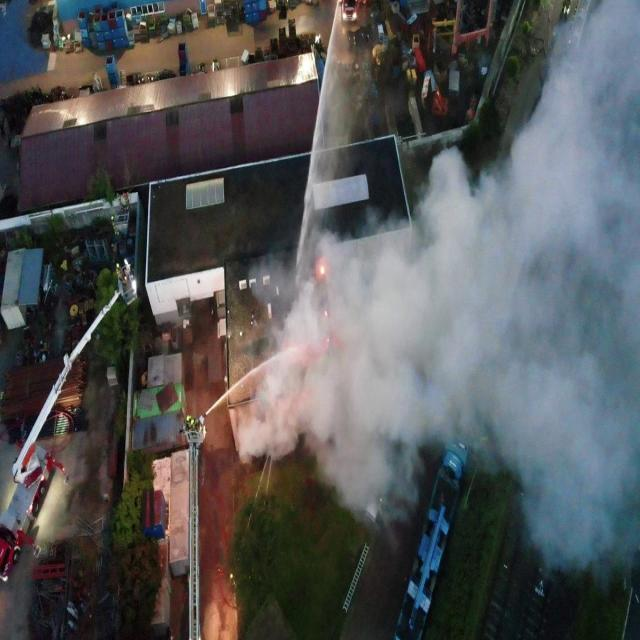Fire: (320, 266, 324, 274)
Smoke: (233, 0, 639, 592)
